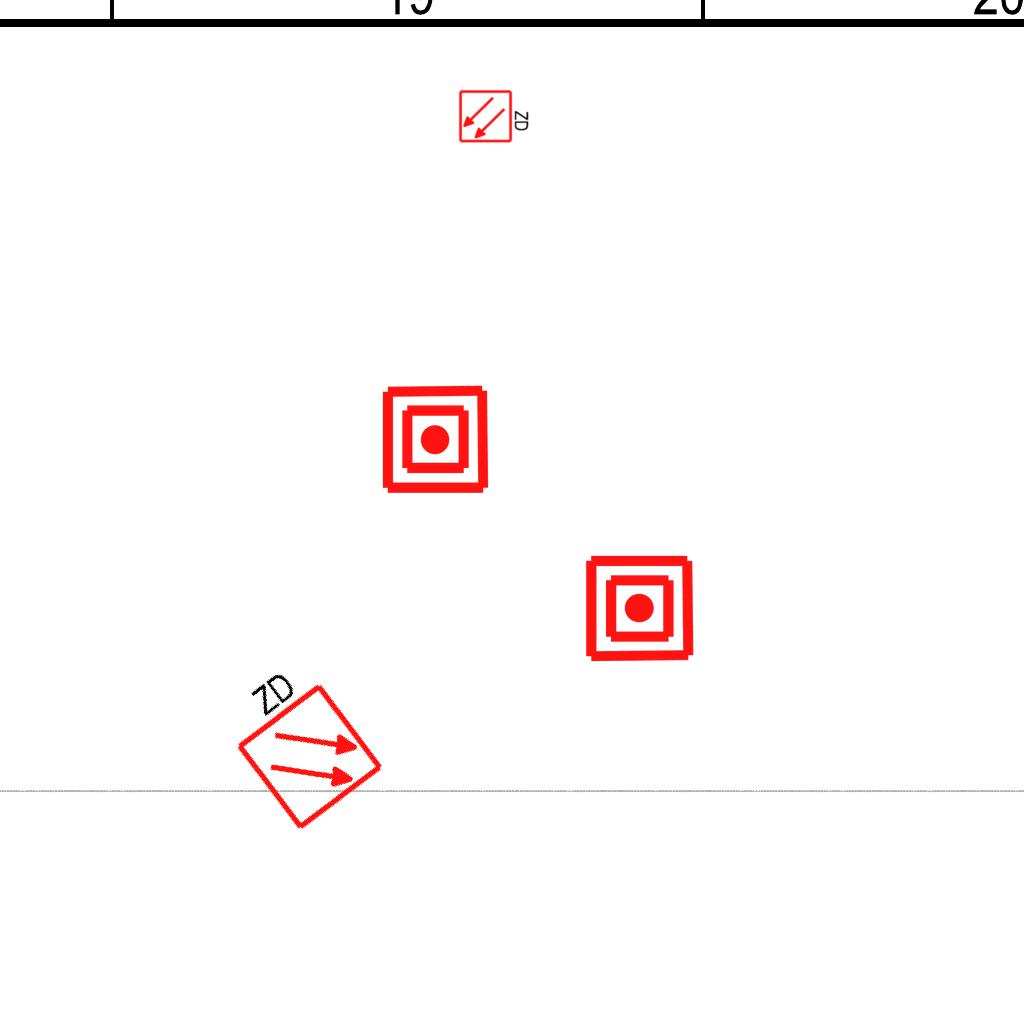NAM-Nichtautomatischer_Melder: (583, 552, 696, 665), (379, 383, 492, 496)
ZD_Melder_in_Zwischendecke_mit_Revisionsoeffnung_mind_40_x_40_cm: (206, 648, 388, 837), (458, 87, 532, 144)
